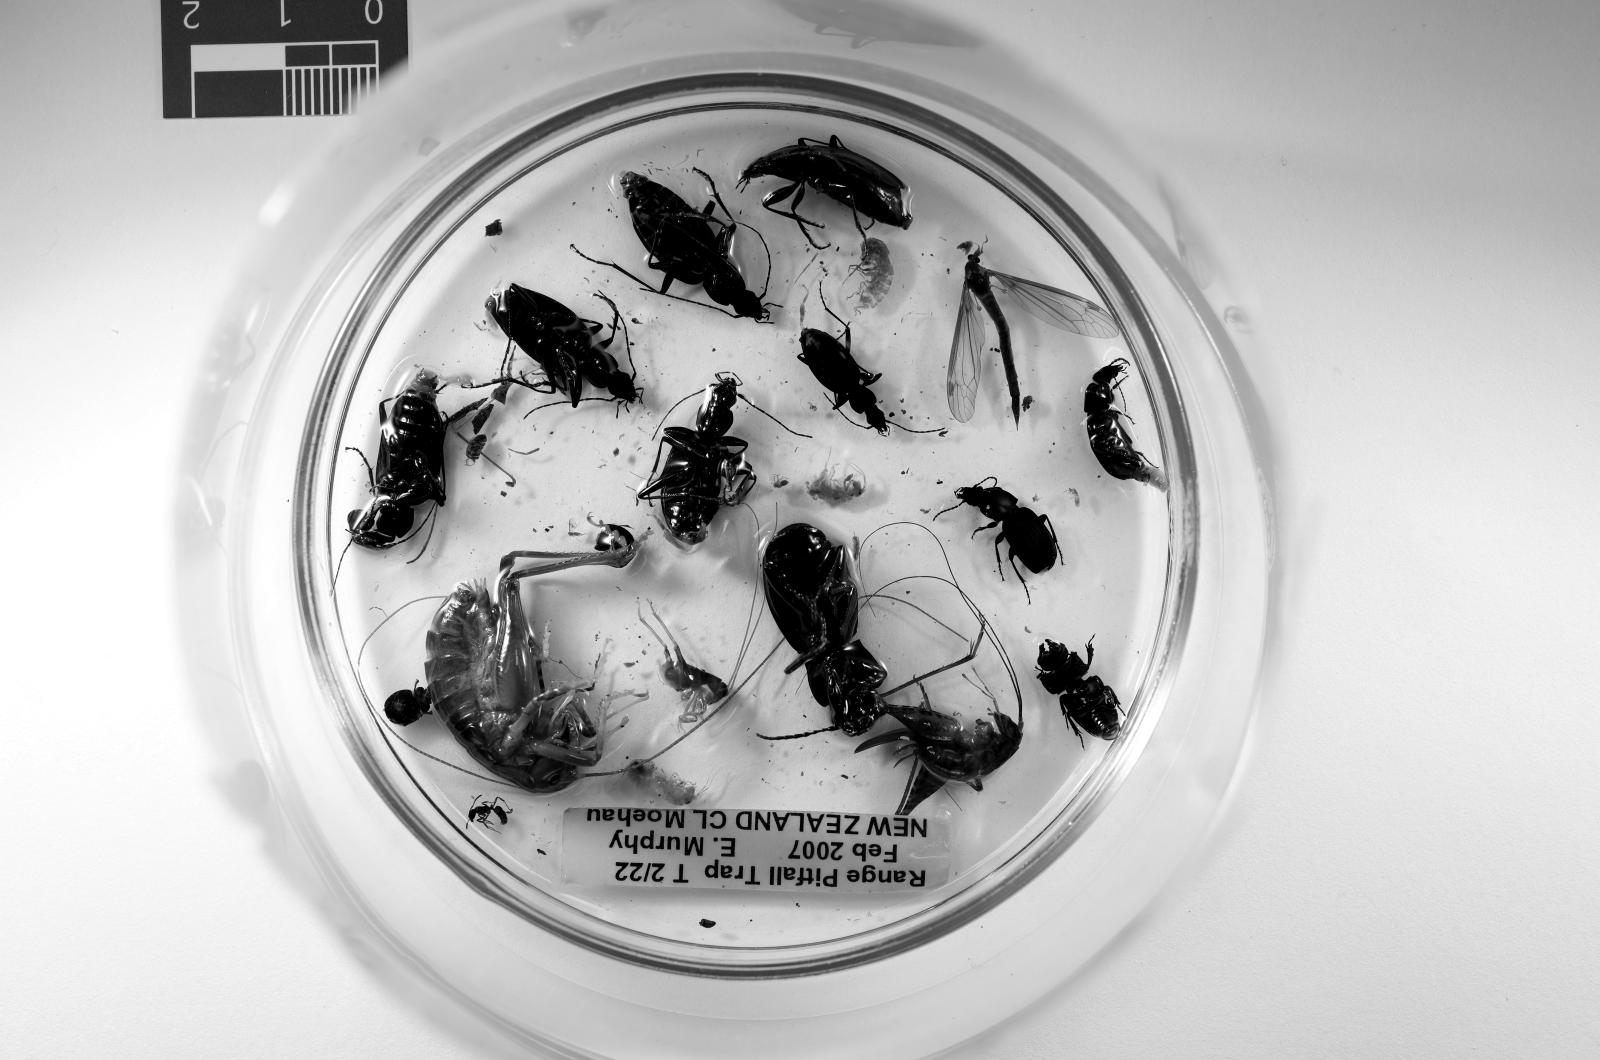amphipoda: (626, 761, 697, 807), (853, 239, 894, 310), (807, 468, 866, 503)
carabidae: (763, 522, 887, 736), (622, 170, 769, 323), (637, 376, 757, 543), (738, 134, 913, 245), (346, 369, 451, 550), (487, 283, 637, 407), (1084, 360, 1168, 491), (797, 323, 887, 435), (957, 478, 1060, 575)
coleoptera: (1037, 640, 1122, 742), (384, 686, 432, 726)
collembola: (853, 537, 860, 562)
formicidae: (468, 799, 512, 829)
orthoptera: (425, 525, 641, 791), (856, 615, 1022, 816), (631, 596, 728, 724)
tipulidae: (947, 252, 1119, 426)
